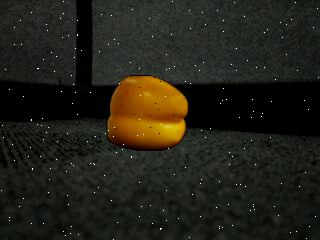Capsicum: (106, 74, 189, 152)
